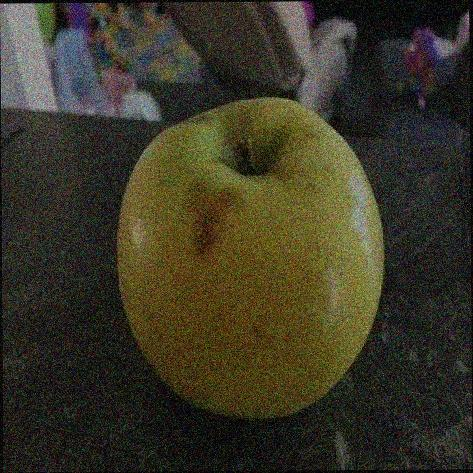green apple: (115, 94, 386, 421)
